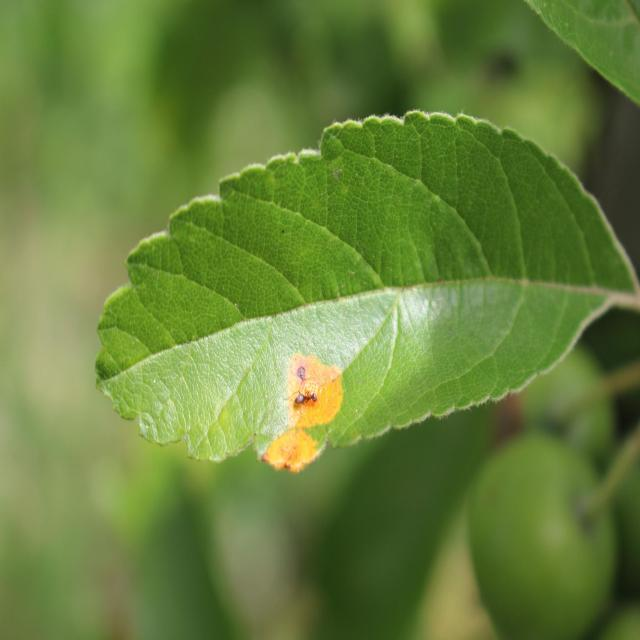Rust: (266, 325, 350, 425), (254, 419, 328, 494)
